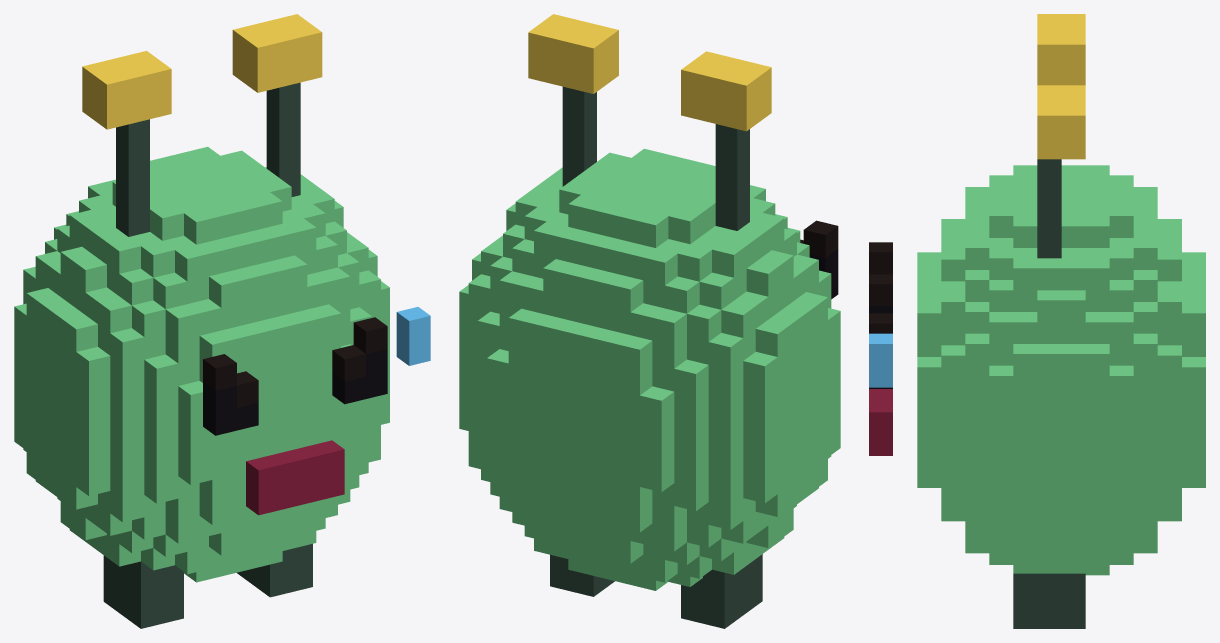
File: alien_urano.obj
3 renders of one model, left to right at view 1: azimuth 30°, elevation 25°; view 2: azimuth 150°, elevation 25°; view 3: azimuth 270°, elevation 25°, orthographic. The views are drawn at different scales.
Visible parts, largest first — view 1: piel, antenas_bolita, antenas, patas, cara_enojado_ceja, cara_enojado_boca, cara_urgido_ojos, cara_urgido_sudor, cara_feliz_boca, cara_enojado_ojos, cara_urgido_boca; view 2: piel, antenas_bolita, antenas, patas, cara_enojado_ceja, cara_urgido_ojos; view 3: piel, antenas_bolita, patas, antenas, cara_enojado_ceja, cara_urgido_sudor, cara_enojado_boca, cara_feliz_boca.
Boxes of the visible parts, bbox=[...] form: piel: bbox=[14, 146, 389, 582]; antenas_bolita: bbox=[82, 14, 322, 129]; antenas: bbox=[116, 82, 300, 236]; patas: bbox=[103, 544, 312, 628]; cara_enojado_ceja: bbox=[203, 317, 387, 407]; cara_enojado_boca: bbox=[246, 445, 344, 515]; cara_urgido_ojos: bbox=[203, 349, 387, 435]; cara_urgido_sudor: bbox=[396, 307, 430, 365]; cara_feliz_boca: bbox=[246, 440, 344, 492]; cara_enojado_ojos: bbox=[237, 373, 365, 430]; cara_urgido_boca: bbox=[280, 477, 322, 509]; piel: bbox=[459, 148, 840, 590]; antenas_bolita: bbox=[528, 14, 771, 131]; antenas: bbox=[562, 86, 749, 230]; patas: bbox=[550, 554, 762, 628]; cara_enojado_ceja: bbox=[800, 220, 838, 257]; cara_urgido_ojos: bbox=[809, 249, 838, 299]; piel: bbox=[917, 165, 1205, 575]; antenas_bolita: bbox=[1037, 14, 1085, 159]; patas: bbox=[1013, 573, 1085, 628]; antenas: bbox=[1037, 159, 1061, 258]; cara_enojado_ceja: bbox=[869, 242, 892, 333]; cara_urgido_sudor: bbox=[869, 333, 892, 387]; cara_enojado_boca: bbox=[869, 389, 892, 455]; cara_feliz_boca: bbox=[869, 402, 892, 434].
Bounding box in the file's own units: 0.7 × 1.2 × 0.7.
